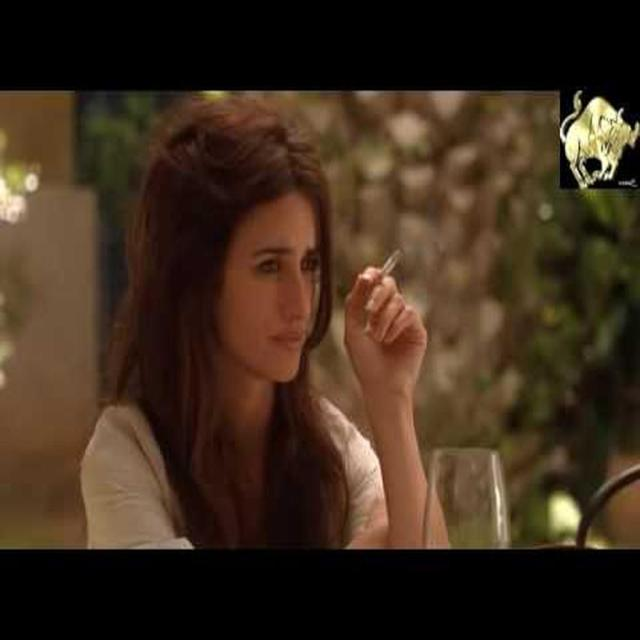smoking: (161, 153, 445, 431)
